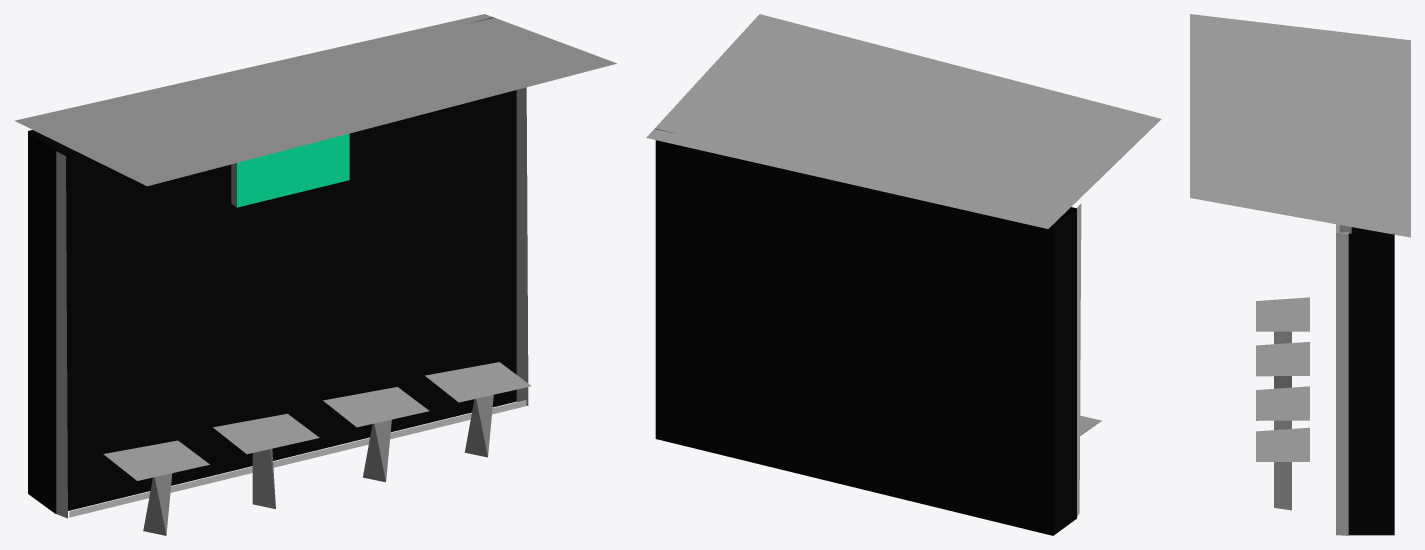
Rendered from PontoDeOnibusGrandeLOD1.fbx.
3 renders of one model, left to right at view 1: azimuth 30°, elevation 25°; view 2: azimuth 150°, elevation 25°; view 3: azimuth 270°, elevation 25°, orthographic. The views are drawn at different scales.
Visible parts, largest first — view 1: PontoDeOnibusLargoLOD1; view 2: PontoDeOnibusLargoLOD1; view 3: PontoDeOnibusLargoLOD1.
Part boxes in pixels (<box>): PontoDeOnibusLargoLOD1: <box>14,14,616,535</box>; PontoDeOnibusLargoLOD1: <box>646,14,1161,535</box>; PontoDeOnibusLargoLOD1: <box>1190,14,1410,535</box>.
Size of the model in its own units: 452 by 377 by 221.
